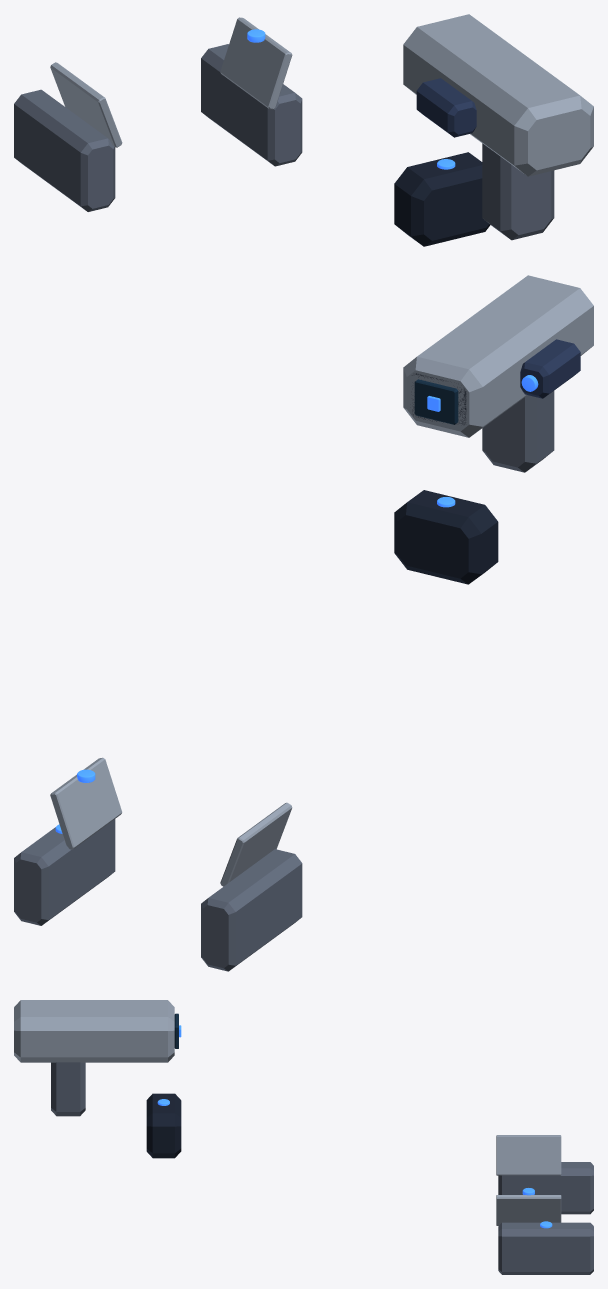
The model's file is tower_lance_range_s6.glb.
3 renders of one model, top to bottom at view 1: azimuth 30°, elevation 25°; view 2: azimuth 150°, elevation 25°; view 3: azimuth 270°, elevation 25°, orthographic. The views are drawn at different scales.
Parts seen in each view (by area): view 1: lance_optic_long, lance_shroud_ext_r, lance_optic_shade_deep, lance_shroud_ext_l, lance_optic_riser, lance_stab_fin_l, lance_rangefinder, lance_stab_fin_r; view 2: lance_optic_long, lance_shroud_ext_r, lance_optic_shade_deep, lance_shroud_ext_l, lance_optic_riser, lance_stab_fin_l, lance_stab_fin_r, lance_rangefinder, lance_optic_long_lens; view 3: lance_optic_long, lance_shroud_ext_l, lance_shroud_ext_r, lance_stab_fin_r, lance_optic_shade_deep, lance_optic_riser, lance_stab_fin_l.
Part boxes in pixels (x1,y1,x2,y2): lance_optic_long: (403,14,593,176); lance_shroud_ext_r: (14,89,115,211); lance_optic_shade_deep: (394,152,490,246); lance_shroud_ext_l: (201,44,302,166); lance_optic_riser: (482,143,554,240); lance_stab_fin_l: (220,17,292,109); lance_rangefinder: (416,78,476,137); lance_stab_fin_r: (50,62,122,147); lance_optic_long: (403,275,593,437); lance_shroud_ext_r: (201,849,302,971); lance_optic_shade_deep: (394,490,498,584); lance_shroud_ext_l: (14,819,115,925); lance_optic_riser: (482,391,554,472); lance_stab_fin_l: (50,757,122,849); lance_stab_fin_r: (220,802,292,886); lance_rangefinder: (520,339,580,398); lance_optic_long_lens: (414,379,458,424); lance_optic_long: (14,1000,174,1062); lance_shroud_ext_l: (498,1222,593,1274); lance_shroud_ext_r: (498,1162,593,1214); lance_stab_fin_r: (496,1135,561,1175); lance_optic_shade_deep: (146,1093,181,1158); lance_optic_riser: (51,1062,85,1116); lance_stab_fin_l: (496,1195,561,1225).
Size of the model in its own units: 0.7824 by 1.18 by 2.67.
